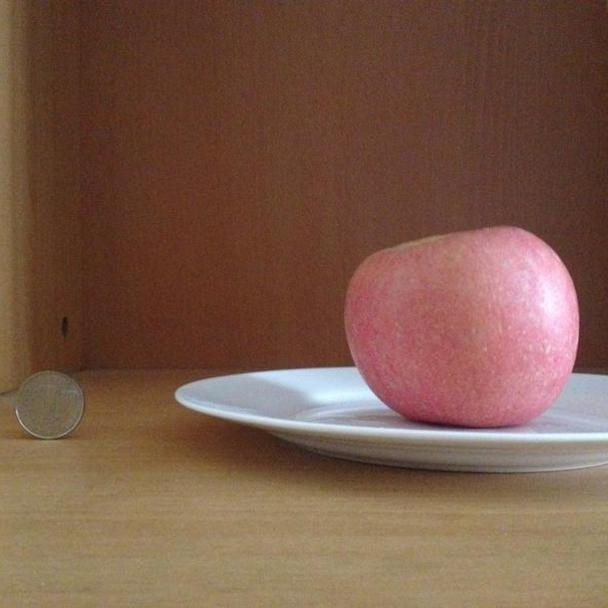apple: (341, 221, 584, 428)
